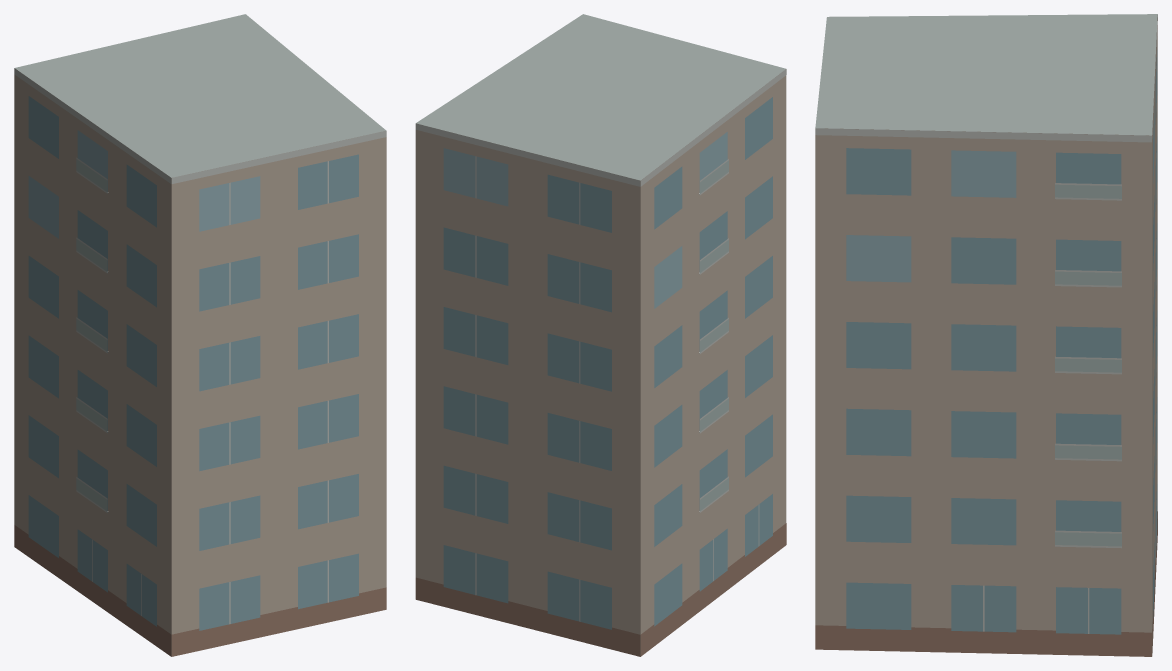
Rendered from survey-upis-32746848.glb.
3 renders of one model, left to right at view 1: azimuth 30°, elevation 25°; view 2: azimuth 150°, elevation 25°; view 3: azimuth 270°, elevation 25°, orthographic. The views are drawn at different scales.
Parts seen in each view (by area): view 1: survey-upis-32746848.tmp; view 2: survey-upis-32746848.tmp; view 3: survey-upis-32746848.tmp.
Boxes of the visible parts, x1,y1,x2,y2 form: survey-upis-32746848.tmp: (14, 14, 386, 656); survey-upis-32746848.tmp: (415, 14, 786, 656); survey-upis-32746848.tmp: (815, 14, 1157, 656).
Bounding box in the file's own units: 9.16 × 18.3 × 10.9.
